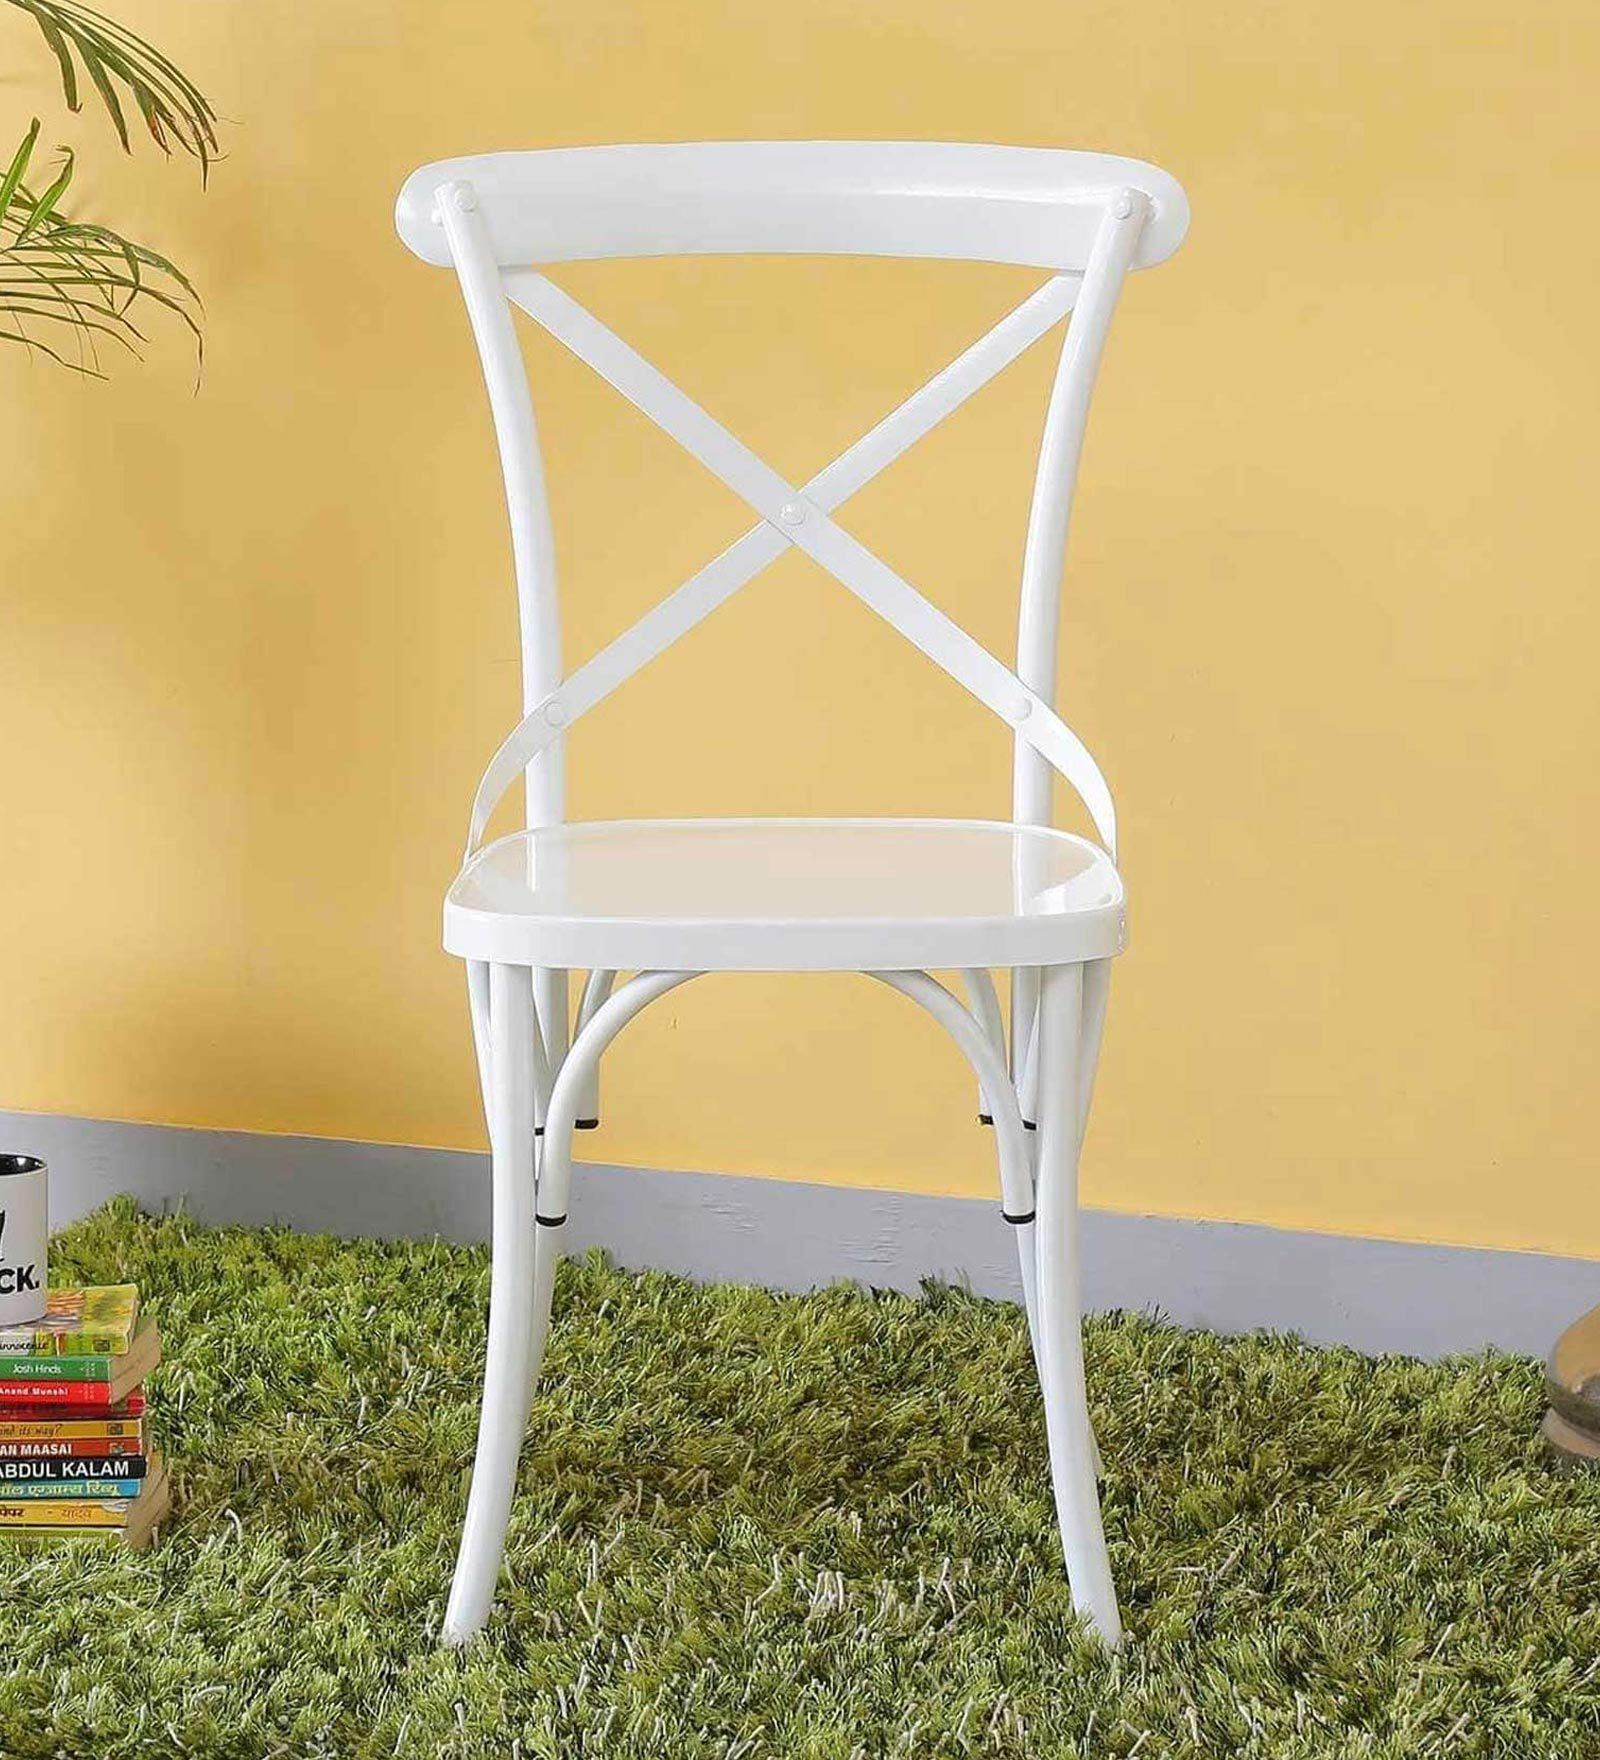Fabian Metal Chair in White Color by Bohemiana: (356, 107, 1182, 1674)
